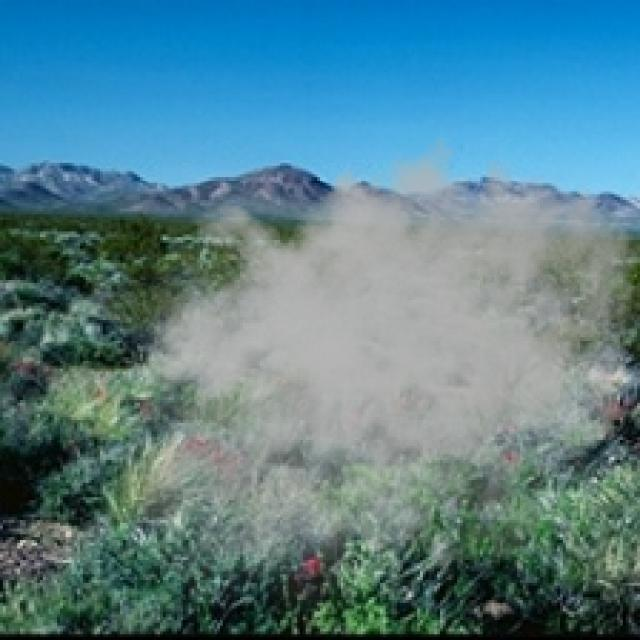smoke: (103, 120, 637, 634)
